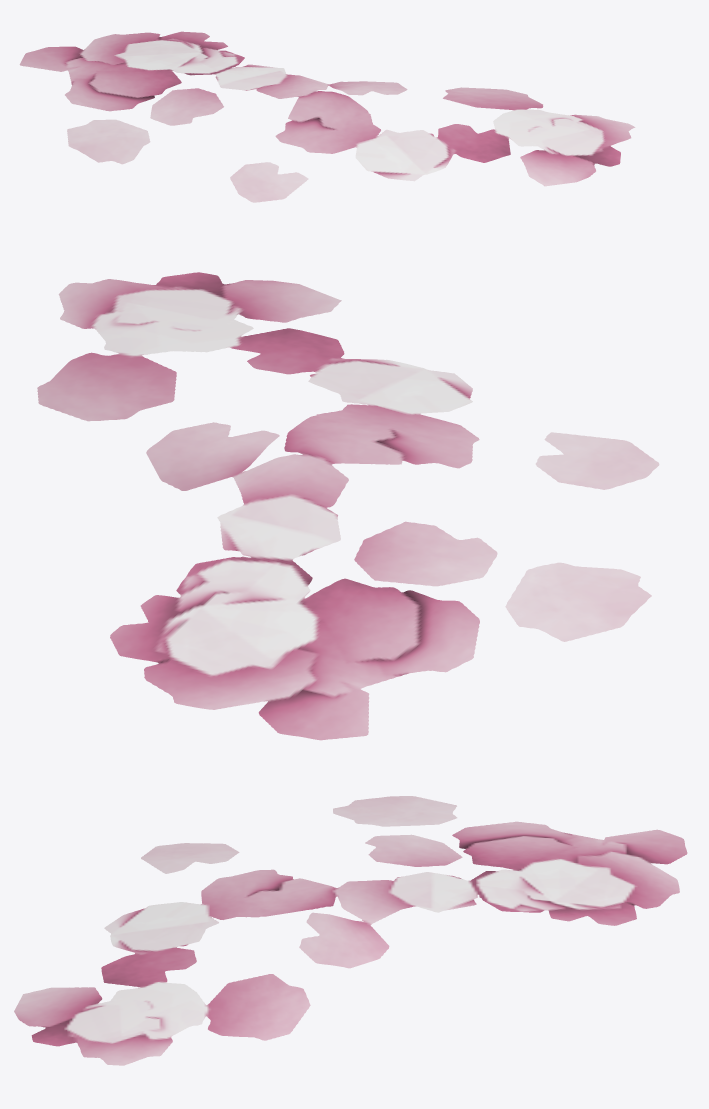
Rendered from SM_Env_CherryBlossom_Small_06.fbx.
The picture shows the model from 3 angles, top to bottom: view 1: azimuth 30°, elevation 25°; view 2: azimuth 150°, elevation 25°; view 3: azimuth 270°, elevation 25°; orthographic projection. The views are drawn at different scales.
Parts seen in each view (by area): view 1: SM_Env_CherryBlossom_Small_06; view 2: SM_Env_CherryBlossom_Small_06; view 3: SM_Env_CherryBlossom_Small_06.
Part boxes in pixels (bbox=[...]): SM_Env_CherryBlossom_Small_06: bbox=[19, 31, 635, 202]; SM_Env_CherryBlossom_Small_06: bbox=[37, 272, 659, 740]; SM_Env_CherryBlossom_Small_06: bbox=[14, 796, 687, 1065].
Bounding box in the file's own units: 81.11 × 4.34 × 74.11.
